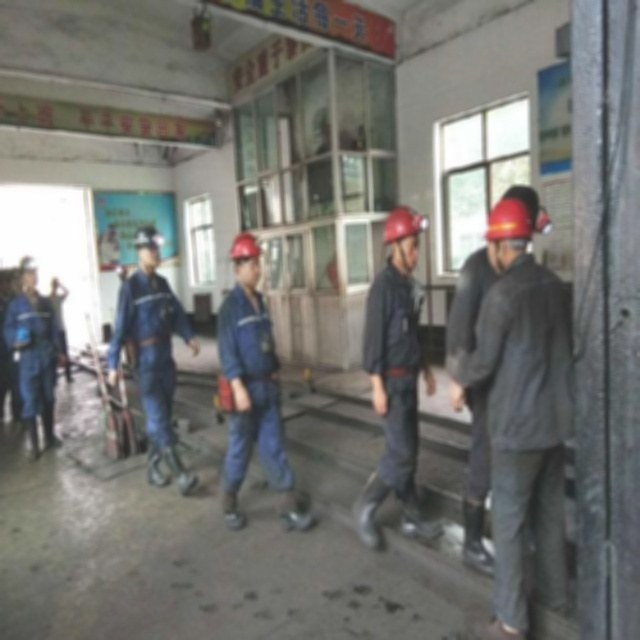Con_Casco: (228, 231, 263, 286)
